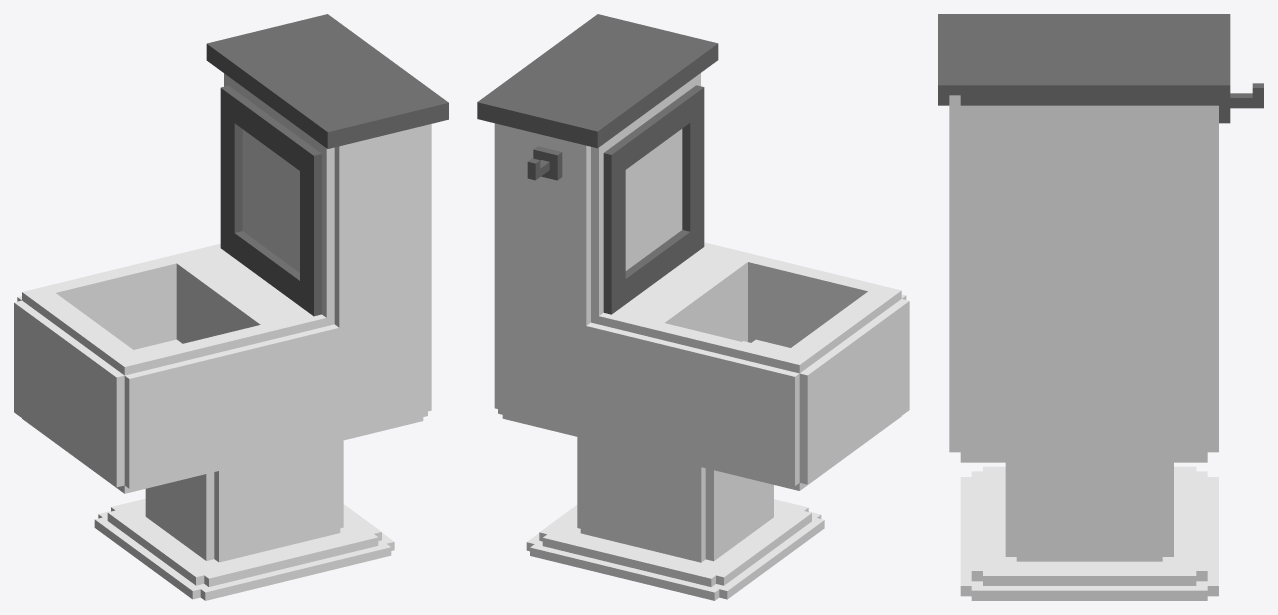
Rendered from SchoolPack-26-Toilets.obj.
3 renders of one model, left to right at view 1: azimuth 30°, elevation 25°; view 2: azimuth 150°, elevation 25°; view 3: azimuth 270°, elevation 25°, orthographic. The views are drawn at different scales.
Visible parts, largest first — view 1: Toilets; view 2: Toilets; view 3: Toilets.
Part boxes in pixels (x1,y1,x2,y2): Toilets: (14, 14, 448, 600); Toilets: (477, 14, 909, 600); Toilets: (938, 14, 1263, 600).
Bounding box in the file's own units: 4 × 5.3 × 2.9.
1 material, 1 textured.
